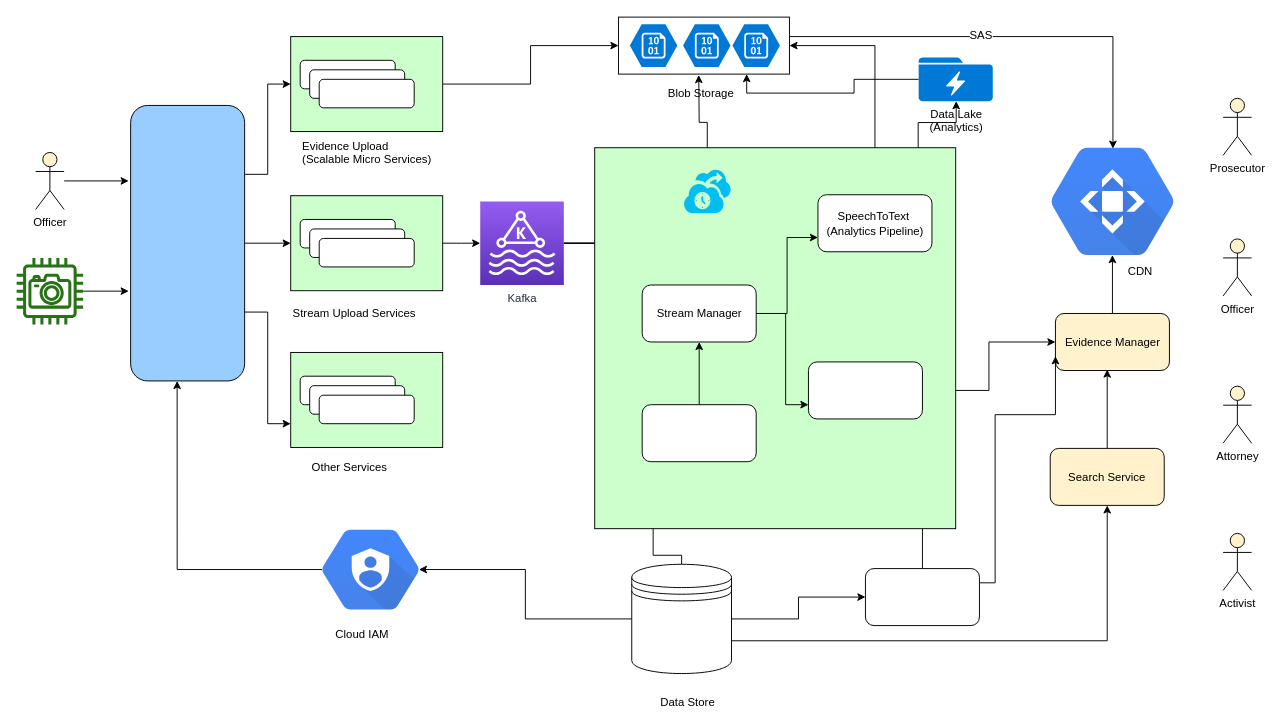
Image size: 1281x728. Some labels were removed from this diagram. The centre of each missing label's shape, as x and y in pixels:
"API Gateway" belongs at pixel 187 242.
"Backup Service" belongs at pixel 707 190.
"Provisioning Service" belongs at pixel 921 597.
"Redaction Service (Streaming Pipeline/Data Analytics)" belongs at pixel 865 390.
"Stream Reconciliation Svc" belongs at pixel 698 433.
